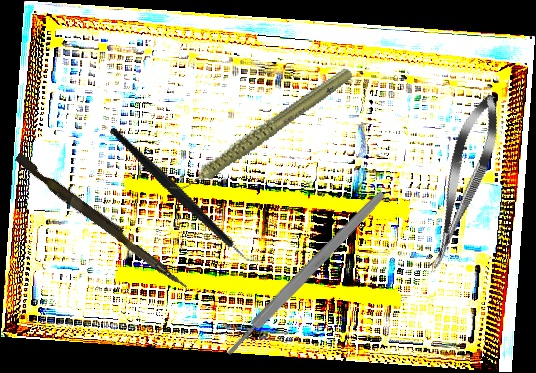Chopper: (108, 94, 266, 298)
Handpiece: (152, 65, 370, 196)
Micro Scissor: (416, 89, 510, 275)
Pusher: (11, 152, 193, 291)
Scalpel Handle: (223, 188, 388, 359)
